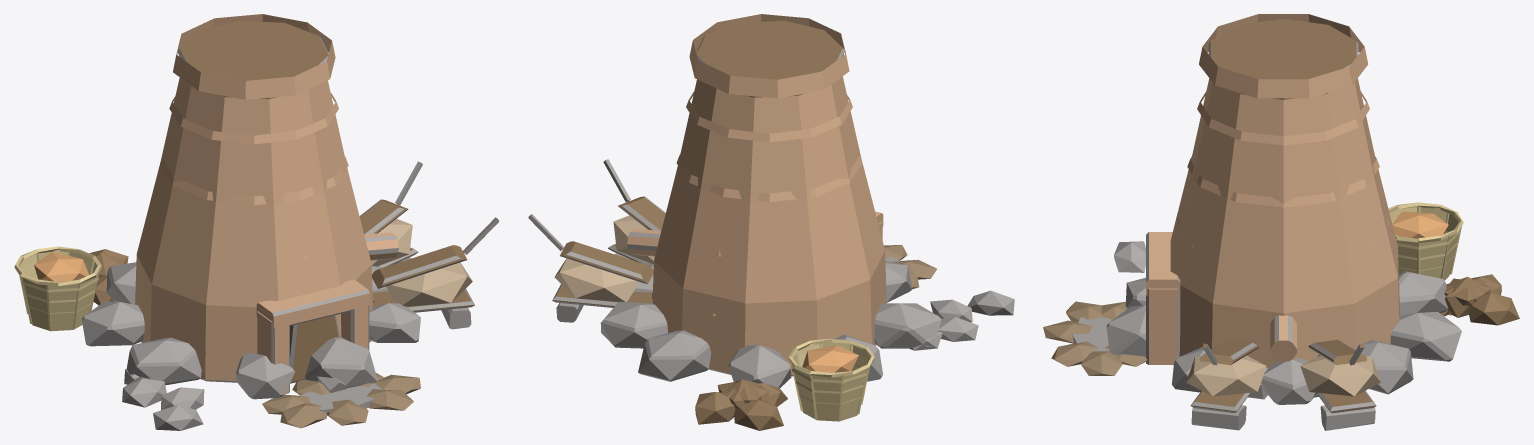
Rendered from w3d_smelter_idle.glb.
3 views of the same model, side by side, from view 1: azimuth 30°, elevation 25°; view 2: azimuth 150°, elevation 25°; view 3: azimuth 270°, elevation 25° (orthographic). The views are drawn at different scales.
Parts seen in each view (by area): view 1: w3d_smelter_idle; view 2: w3d_smelter_idle; view 3: w3d_smelter_idle.
Part boxes in pixels (x1,y1,x2,y2): w3d_smelter_idle: (14, 14, 499, 430); w3d_smelter_idle: (528, 14, 1014, 430); w3d_smelter_idle: (1043, 14, 1519, 430).
Size of the model in its own units: 1.82 by 1.32 by 1.94.
